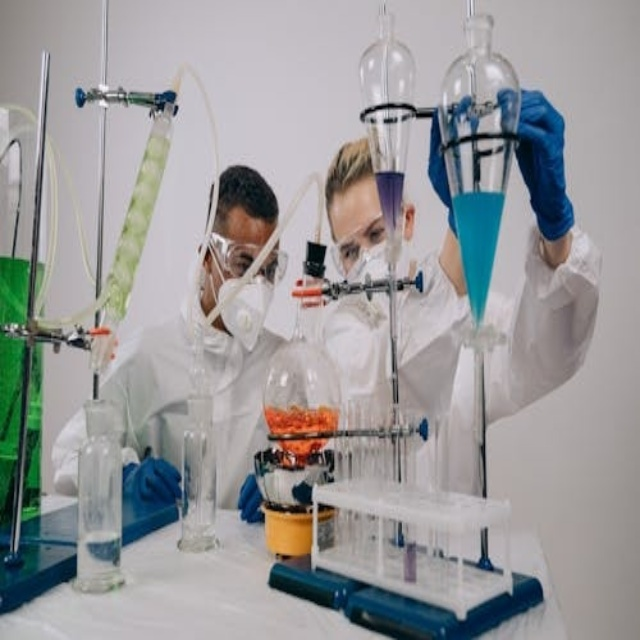Gafas: (328, 208, 400, 280), (203, 233, 287, 284)
Guantes: (494, 83, 581, 240), (425, 94, 462, 215), (122, 450, 182, 505), (237, 465, 264, 530)
Mascara: (208, 252, 276, 351), (337, 231, 408, 306)
